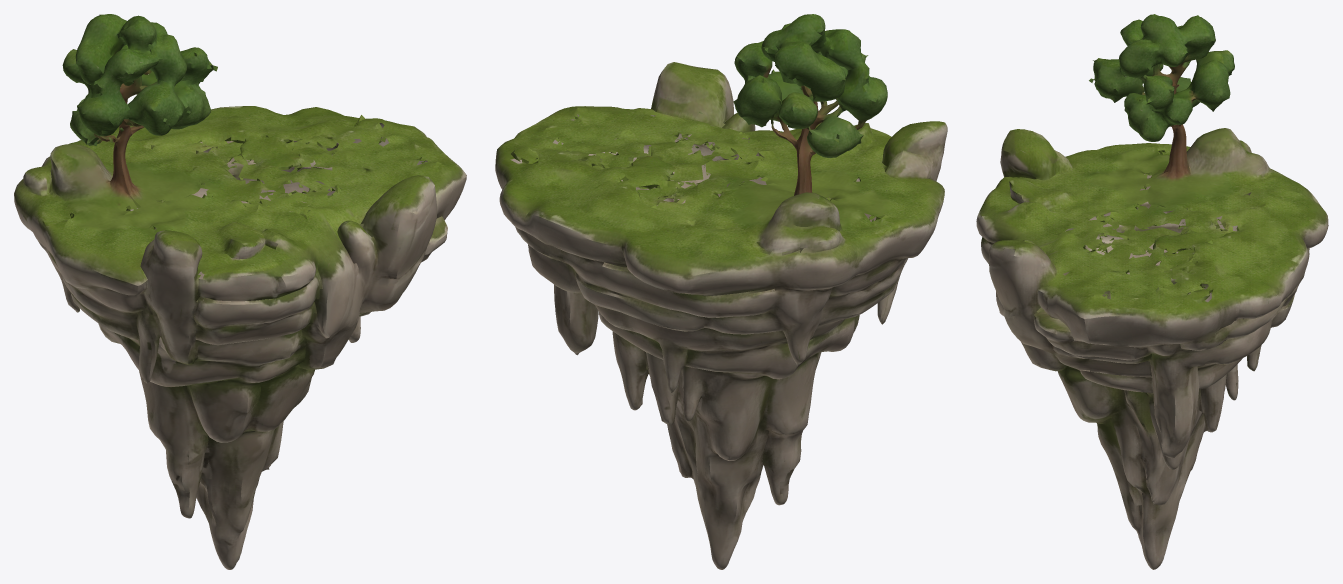
Rendered from cloudreach_floating_islet.glb.
3 views of the same model, side by side, from view 1: azimuth 30°, elevation 25°; view 2: azimuth 150°, elevation 25°; view 3: azimuth 270°, elevation 25° (orthographic). The views are drawn at different scales.
Visible parts, largest first — view 1: Mesh_0; view 2: Mesh_0; view 3: Mesh_0.
Part boxes in pixels (x1,y1,x2,y2): Mesh_0: (14, 14, 466, 569); Mesh_0: (495, 14, 947, 569); Mesh_0: (976, 14, 1328, 569).
Size of the model in its own units: 10 by 13.74 by 8.51.
1 material, 1 textured.
